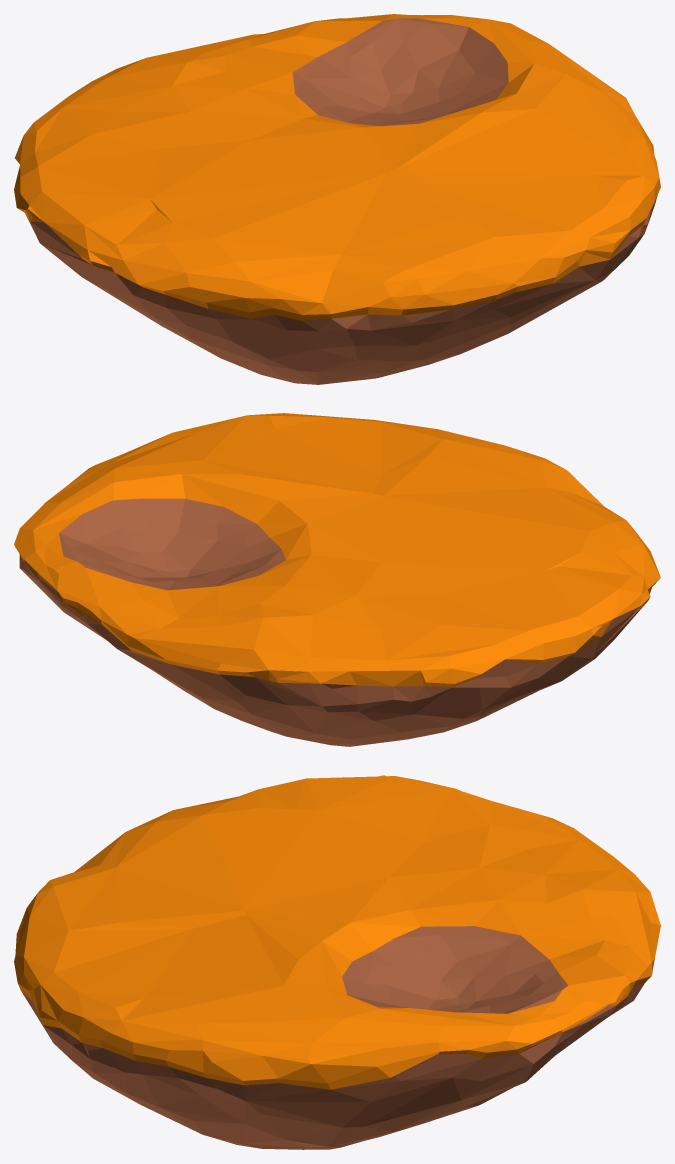
Rendered from fall island.fbx.
3 renders of one model, top to bottom at view 1: azimuth 30°, elevation 25°; view 2: azimuth 150°, elevation 25°; view 3: azimuth 270°, elevation 25°, orthographic. The views are drawn at different scales.
Parts seen in each view (by area): view 1: fall island.001; view 2: fall island.001; view 3: fall island.001.
Part boxes in pixels (left/top/right/bottom): fall island.001: left=14, top=14, right=660, bottom=384; fall island.001: left=14, top=413, right=660, bottom=746; fall island.001: left=14, top=775, right=660, bottom=1149.
Size of the model in its own units: 7353 by 2790 by 6983.
